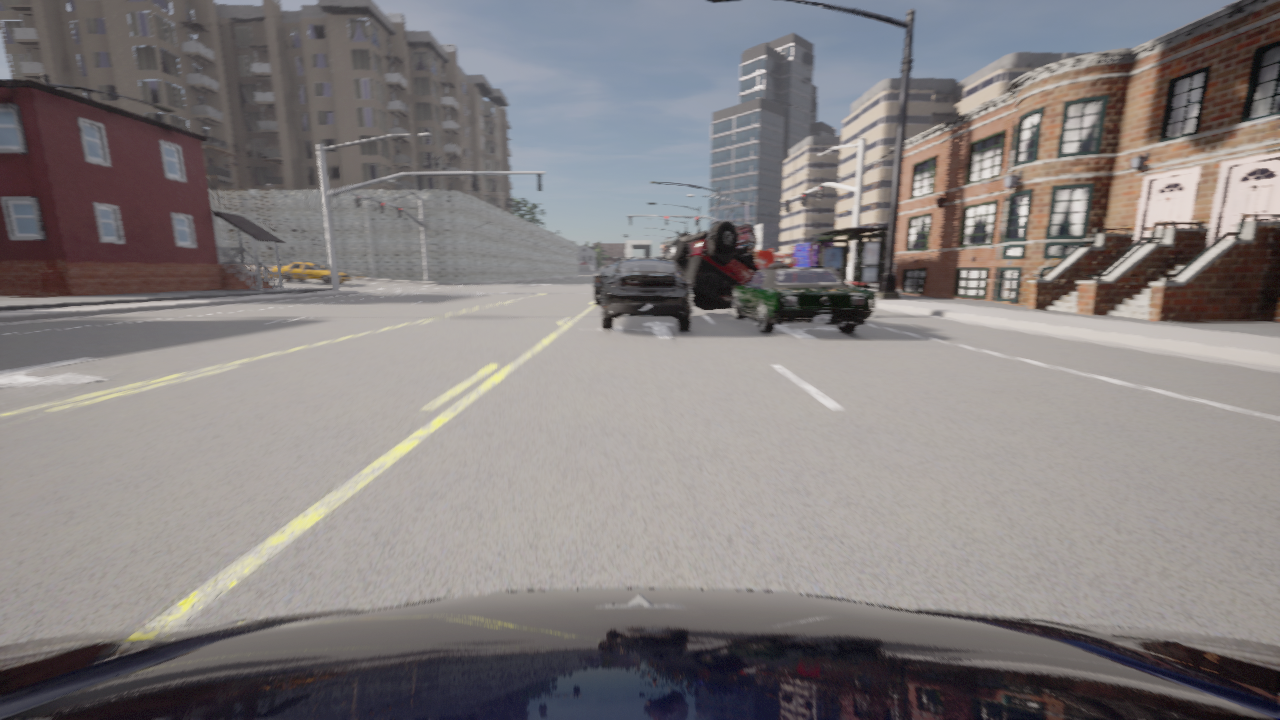cyclist: (0, 588, 1279, 719), (662, 221, 789, 310), (732, 268, 876, 332), (601, 258, 692, 330), (707, 224, 756, 265), (271, 261, 351, 284), (792, 240, 835, 267), (593, 264, 615, 304), (755, 249, 796, 269)
